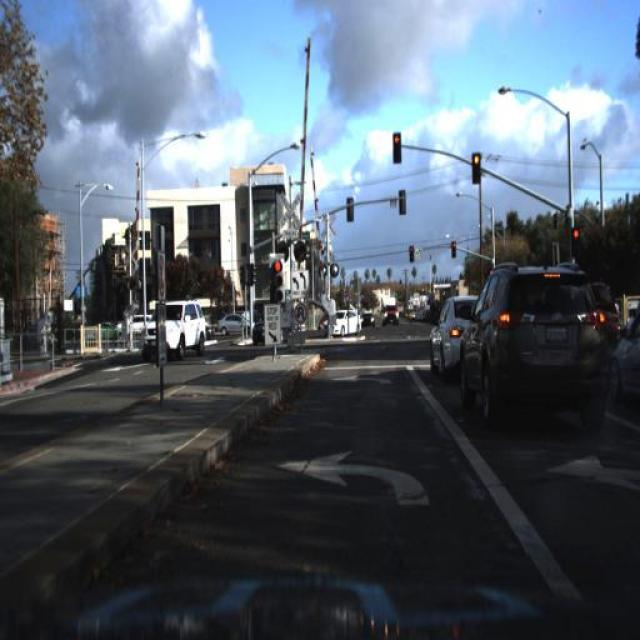car: (458, 258, 618, 442), (426, 292, 490, 382), (136, 292, 209, 363), (141, 298, 204, 360), (422, 292, 462, 378), (215, 311, 251, 345), (325, 308, 364, 336), (251, 314, 281, 345), (215, 310, 251, 334), (254, 312, 274, 346), (381, 299, 402, 326), (382, 302, 404, 326), (359, 304, 376, 334)
trafficLight: (630, 302, 640, 352)
trafficLight-RedLeft: (270, 251, 288, 305), (269, 258, 283, 306), (469, 152, 482, 188), (572, 224, 584, 258), (470, 153, 481, 181), (391, 130, 401, 160), (408, 242, 418, 272), (569, 224, 579, 251), (448, 238, 458, 264), (449, 236, 459, 262), (406, 238, 416, 262)
trafficLight-Yellow: (392, 128, 402, 162)
